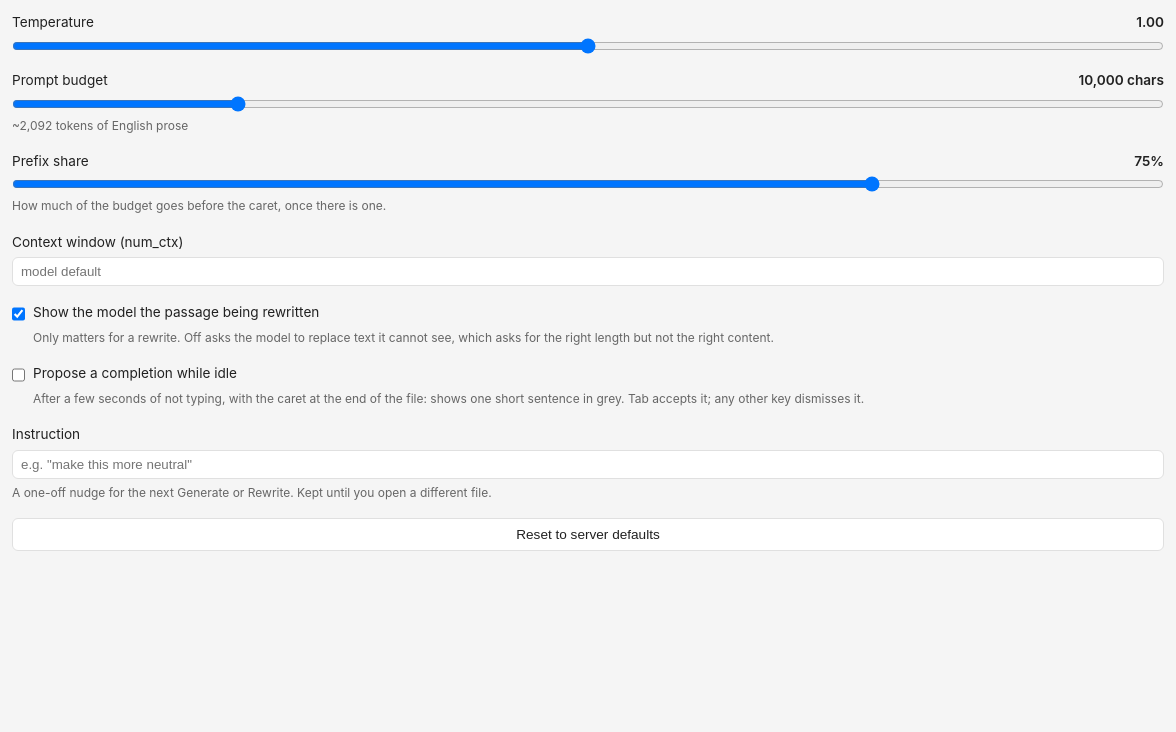
GenerationSettings.vue › warns once the budget estimate reaches the configured context window
This screenshot has width=1176, height=732.
// Default budget is 10000 chars, ~2092 tokens -- comfortably under a 100000 window.
Type "100000" into the number field labelled "Context window (num_ctx)".
click(588, 272); type("100000")  # box [12, 257, 1164, 286]
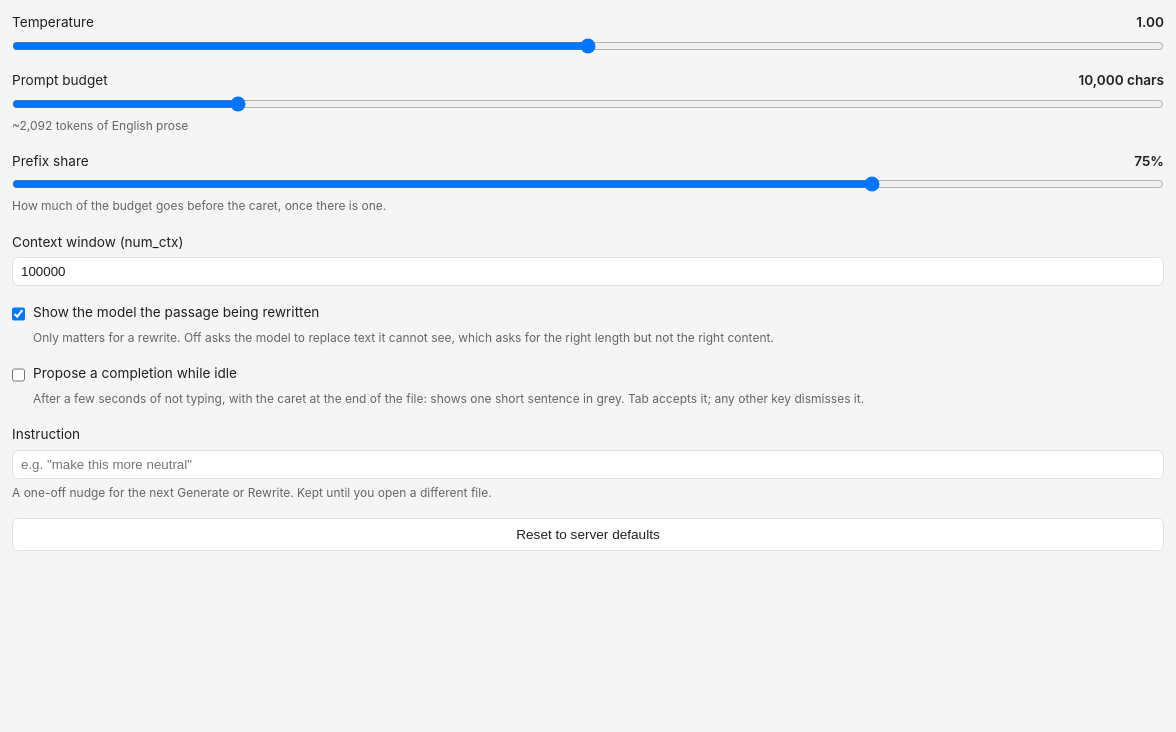
// A tiny window the estimate already reaches or exceeds.
Replace the text in the number field labelled "Context window (num_ctx)" with "100" at (588, 272), box [12, 257, 1164, 286]
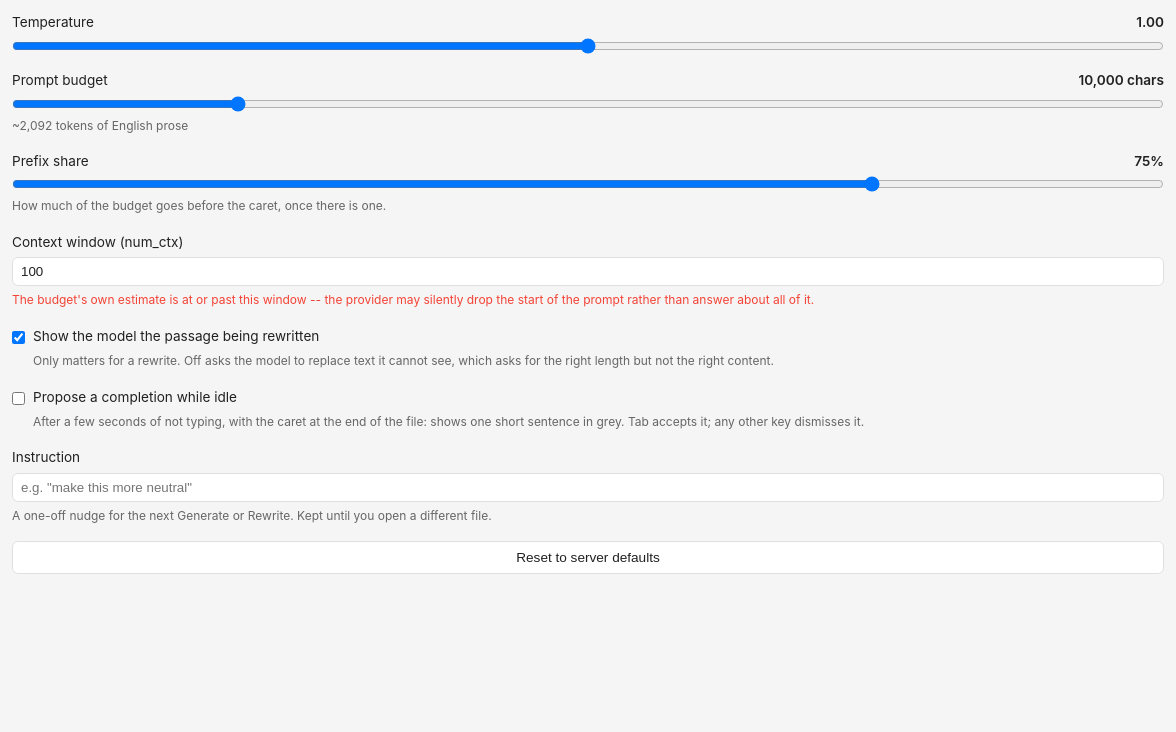
Now the text with class "field-warning" is shown, box [12, 292, 814, 307]
